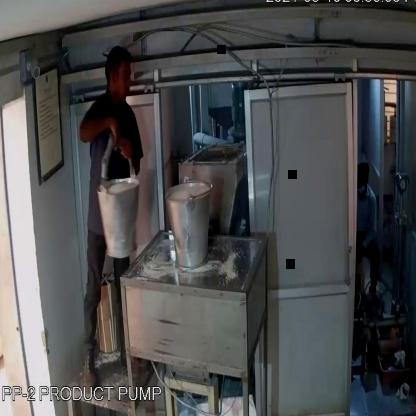no_glove: (78, 111, 123, 154)
